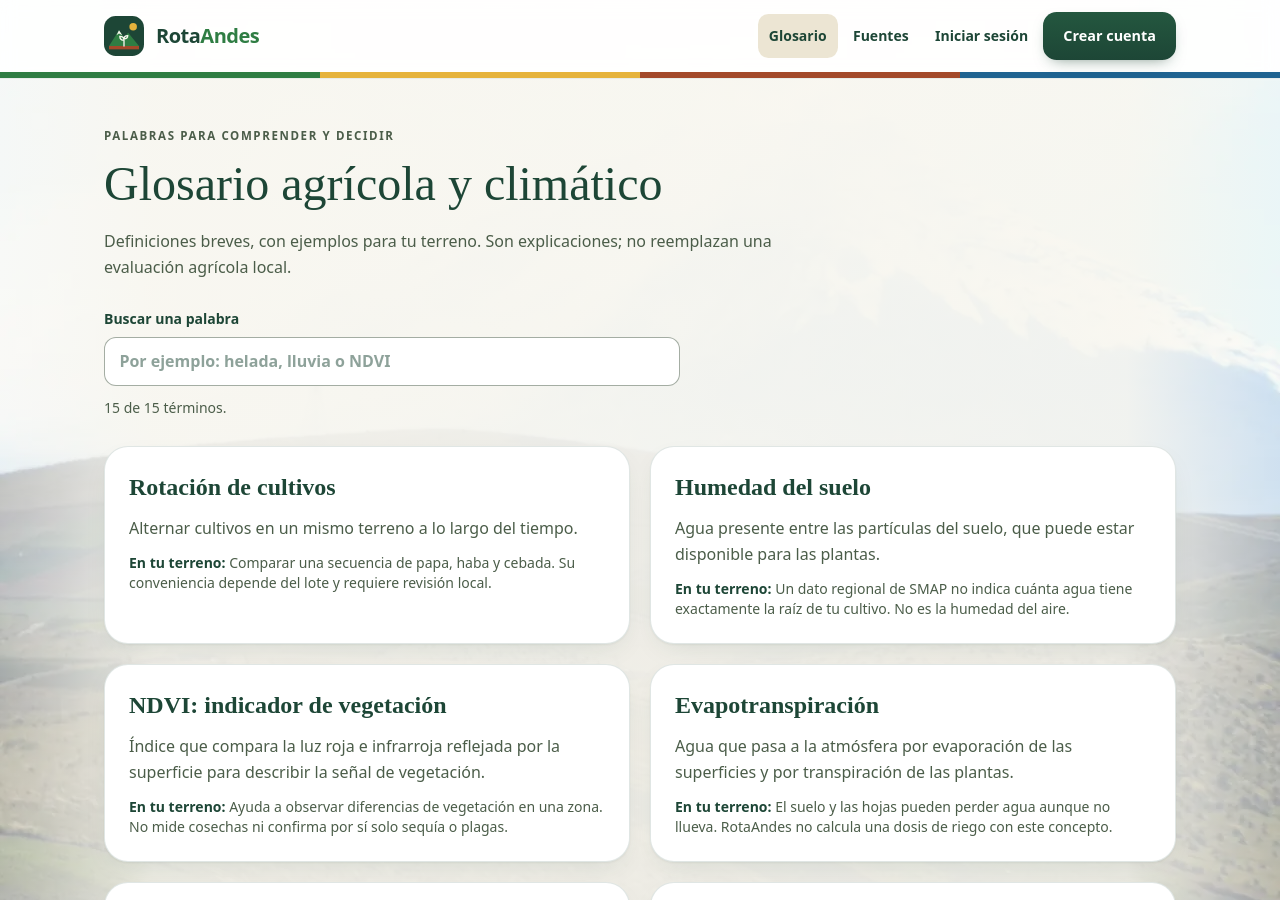
Test case: Información pública, comprensión y rutas › busca sin tildes, conserva ejemplos y permite recuperar una búsqueda vacía
The width and height of the screenshot is (1280, 900).
Later steps or results of the test are not shown.
Type "evapotranspiracion" into the search field labelled "Buscar una palabra" at [392, 362], box [104,337,680,386]
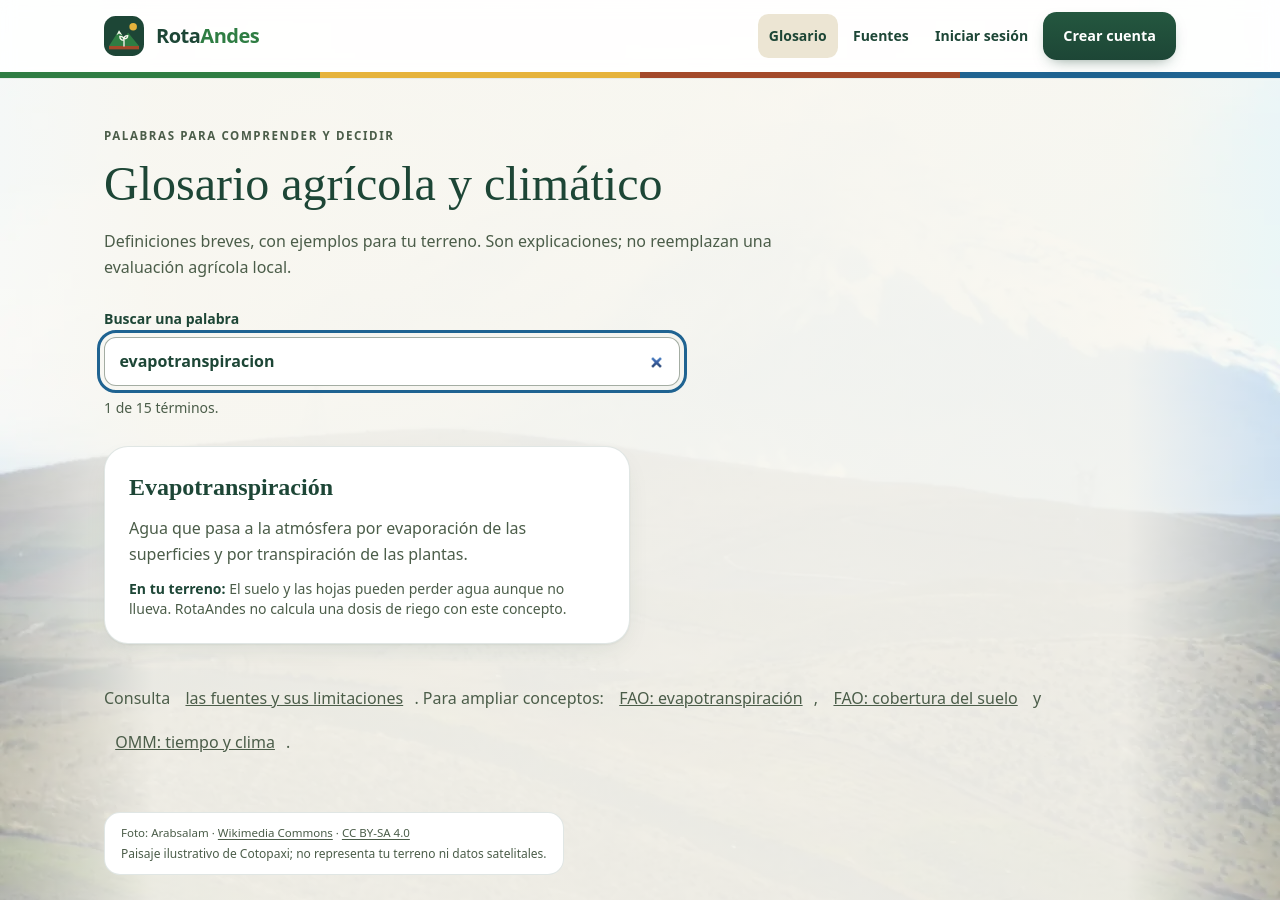
Expected: the text "Evapotranspiración" is shown, [129,474,333,500]
Replace the text in the search field labelled "Buscar una palabra" with "palabra inexistente zz" at [392, 362], box [104,337,680,386]
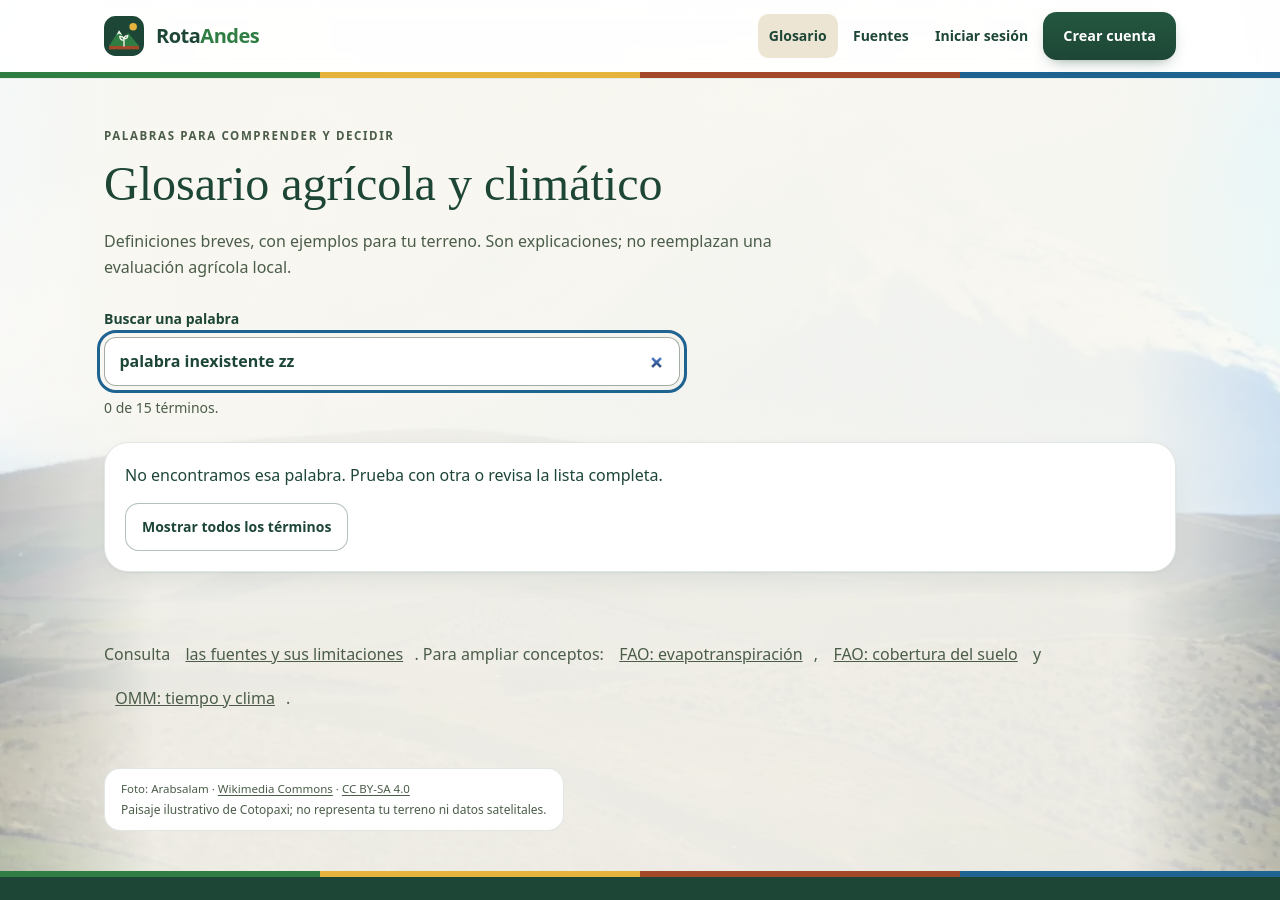
Expected: the message shows "0 de 15", [104,398,218,417]
